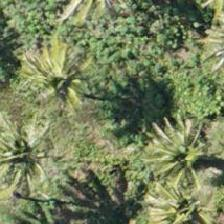coconut_tree: (21, 39, 111, 129), (135, 110, 223, 200), (0, 110, 74, 200)
